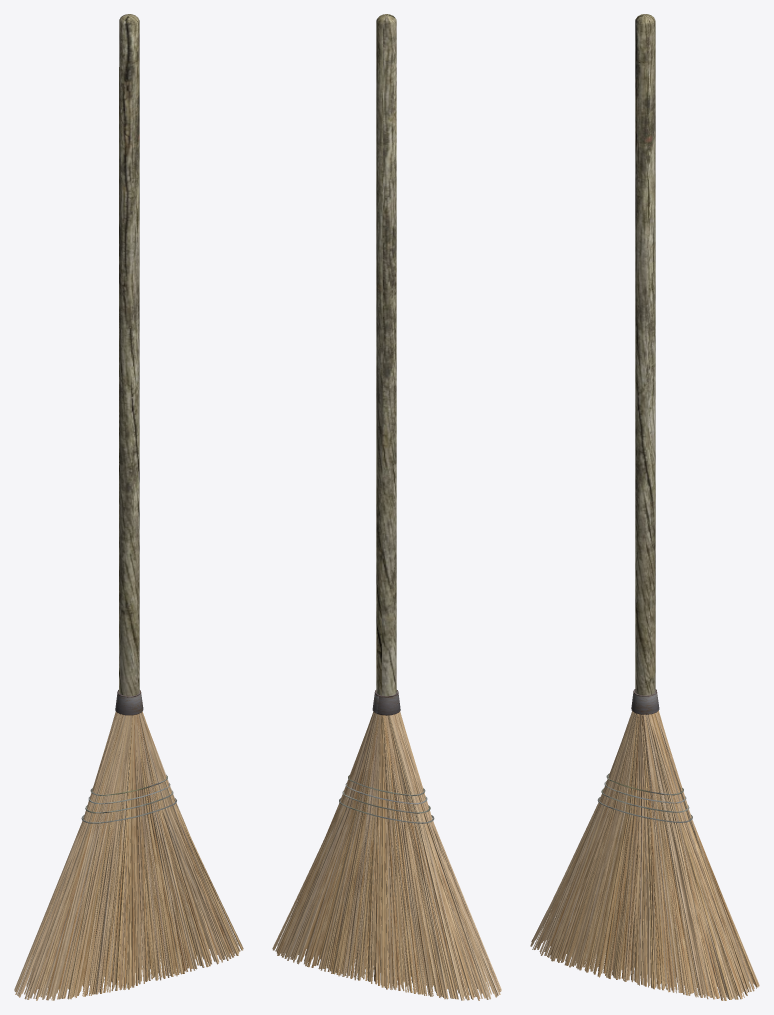
File: broom.gltf
3 views of the same model, side by side, from view 1: azimuth 30°, elevation 25°; view 2: azimuth 150°, elevation 25°; view 3: azimuth 330°, elevation 25° (orthographic).
Visible parts, largest first — view 1: broom; view 2: broom; view 3: broom.
Boxes of the visible parts, x1,y1,x2,y2 form: broom: [14, 14, 243, 1000]; broom: [272, 14, 501, 1000]; broom: [530, 14, 759, 1000].
Bounding box in the file's own units: 0.4384 × 1.84 × 0.1612.
4 materials, 4 textured.
